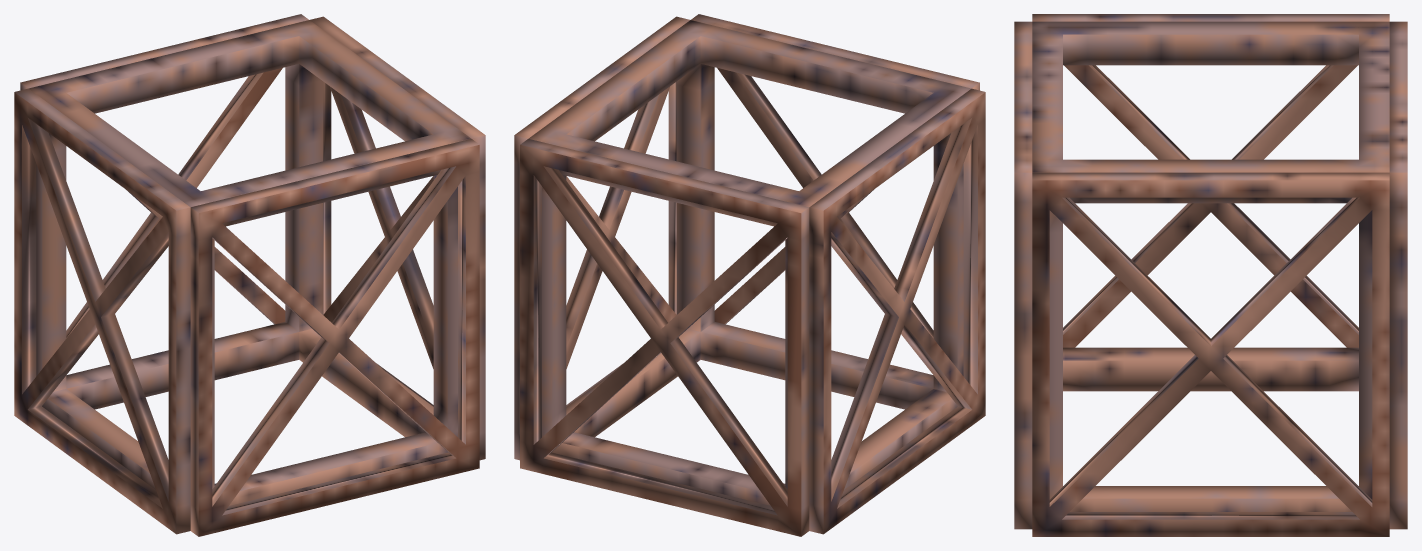
The model's file is Metal_Frame_5_scratches.obj.
The picture shows the model from 3 angles, left to right: view 1: azimuth 30°, elevation 25°; view 2: azimuth 150°, elevation 25°; view 3: azimuth 270°, elevation 25°; orthographic projection. The views are drawn at different scales.
Visible parts, largest first — view 1: metal_frame; view 2: metal_frame; view 3: metal_frame.
Boxes of the visible parts, <box> form: metal_frame: <box>14,14,485,536</box>; metal_frame: <box>514,14,985,536</box>; metal_frame: <box>1014,14,1407,536</box>.
Size of the model in its own units: 1 by 1 by 1.
Materials: 1 (1 with a texture image).
